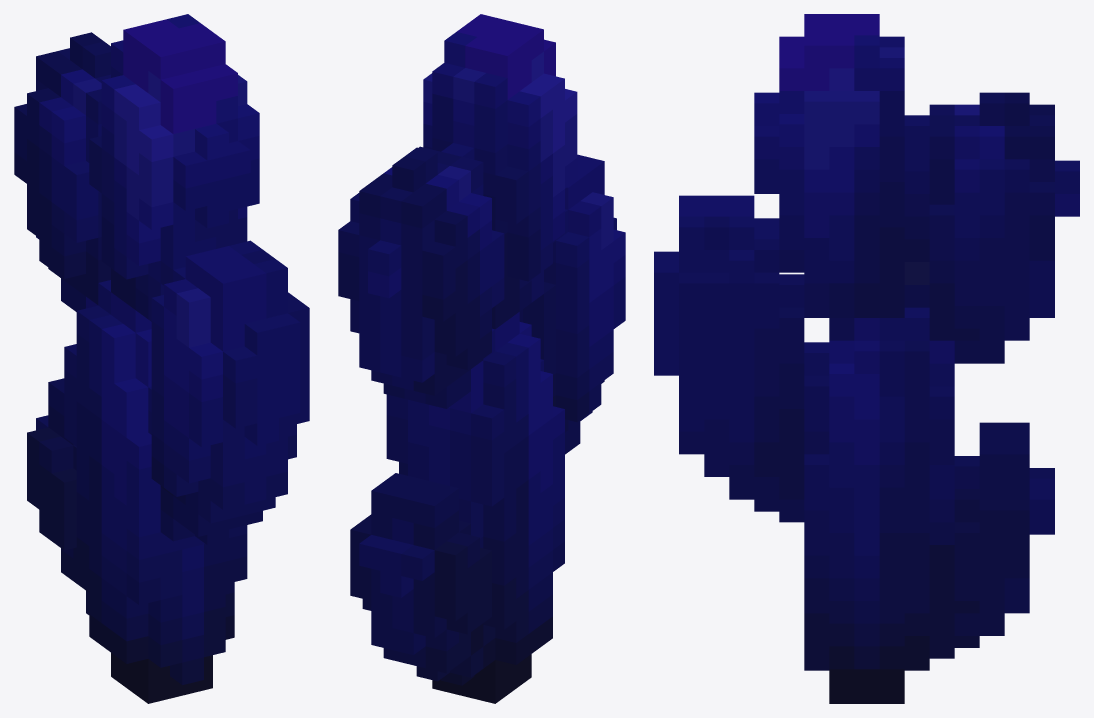
The model's file is overseer-plant-4.glb.
3 renders of one model, left to right at view 1: azimuth 30°, elevation 25°; view 2: azimuth 150°, elevation 25°; view 3: azimuth 270°, elevation 25°, orthographic. The views are drawn at different scales.
Parts seen in each view (by area): view 1: world; view 2: world; view 3: world.
Part boxes in pixels (box(x1,y1,x2,y2)): world: box(14, 14, 309, 703); world: box(338, 14, 625, 703); world: box(654, 14, 1079, 703).
Bounding box in the file's own units: 0.1804 × 1.05 × 0.6133.
Materials: 1 (1 with a texture image).
